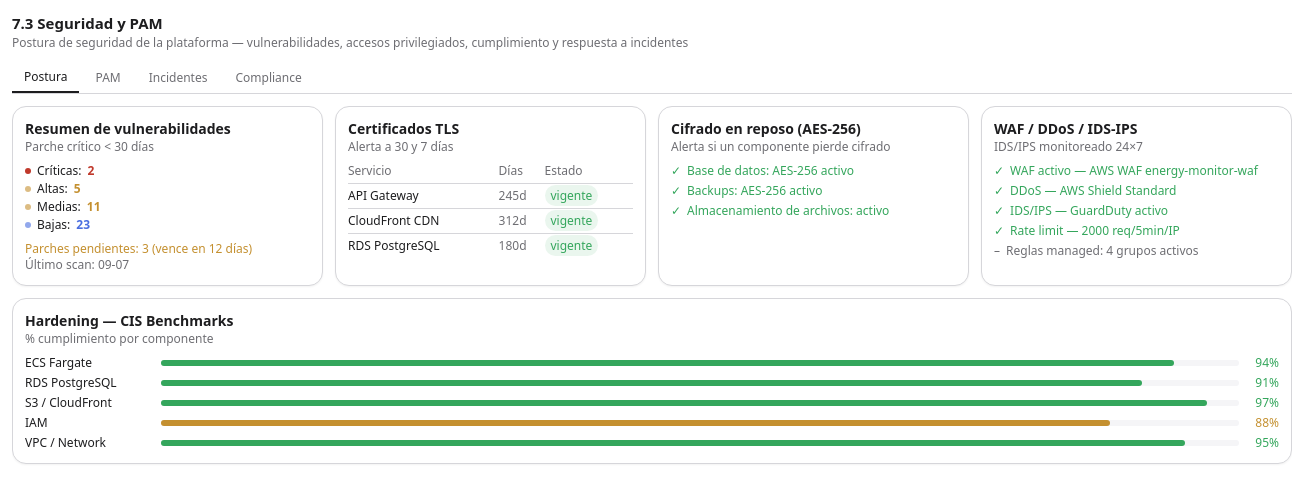
Scenario: SeguridadPamPage › renders SBOM inventory section
Click the button "Compliance".
click(269, 78)  # box [224,62,314,92]
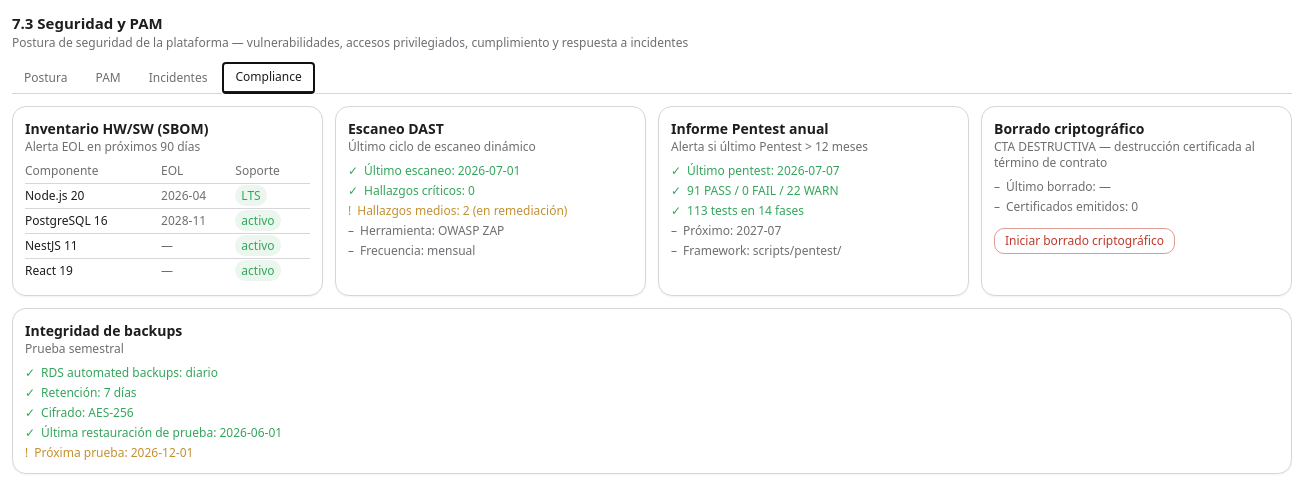
Check: the heading "Inventario HW/SW (SBOM)" is shown, box [25,118,208,138]
Check: the text "Node.js 20" is shown, box [25,183,161,208]
Check: the text "PostgreSQL 16" is shown, box [25,208,161,233]
